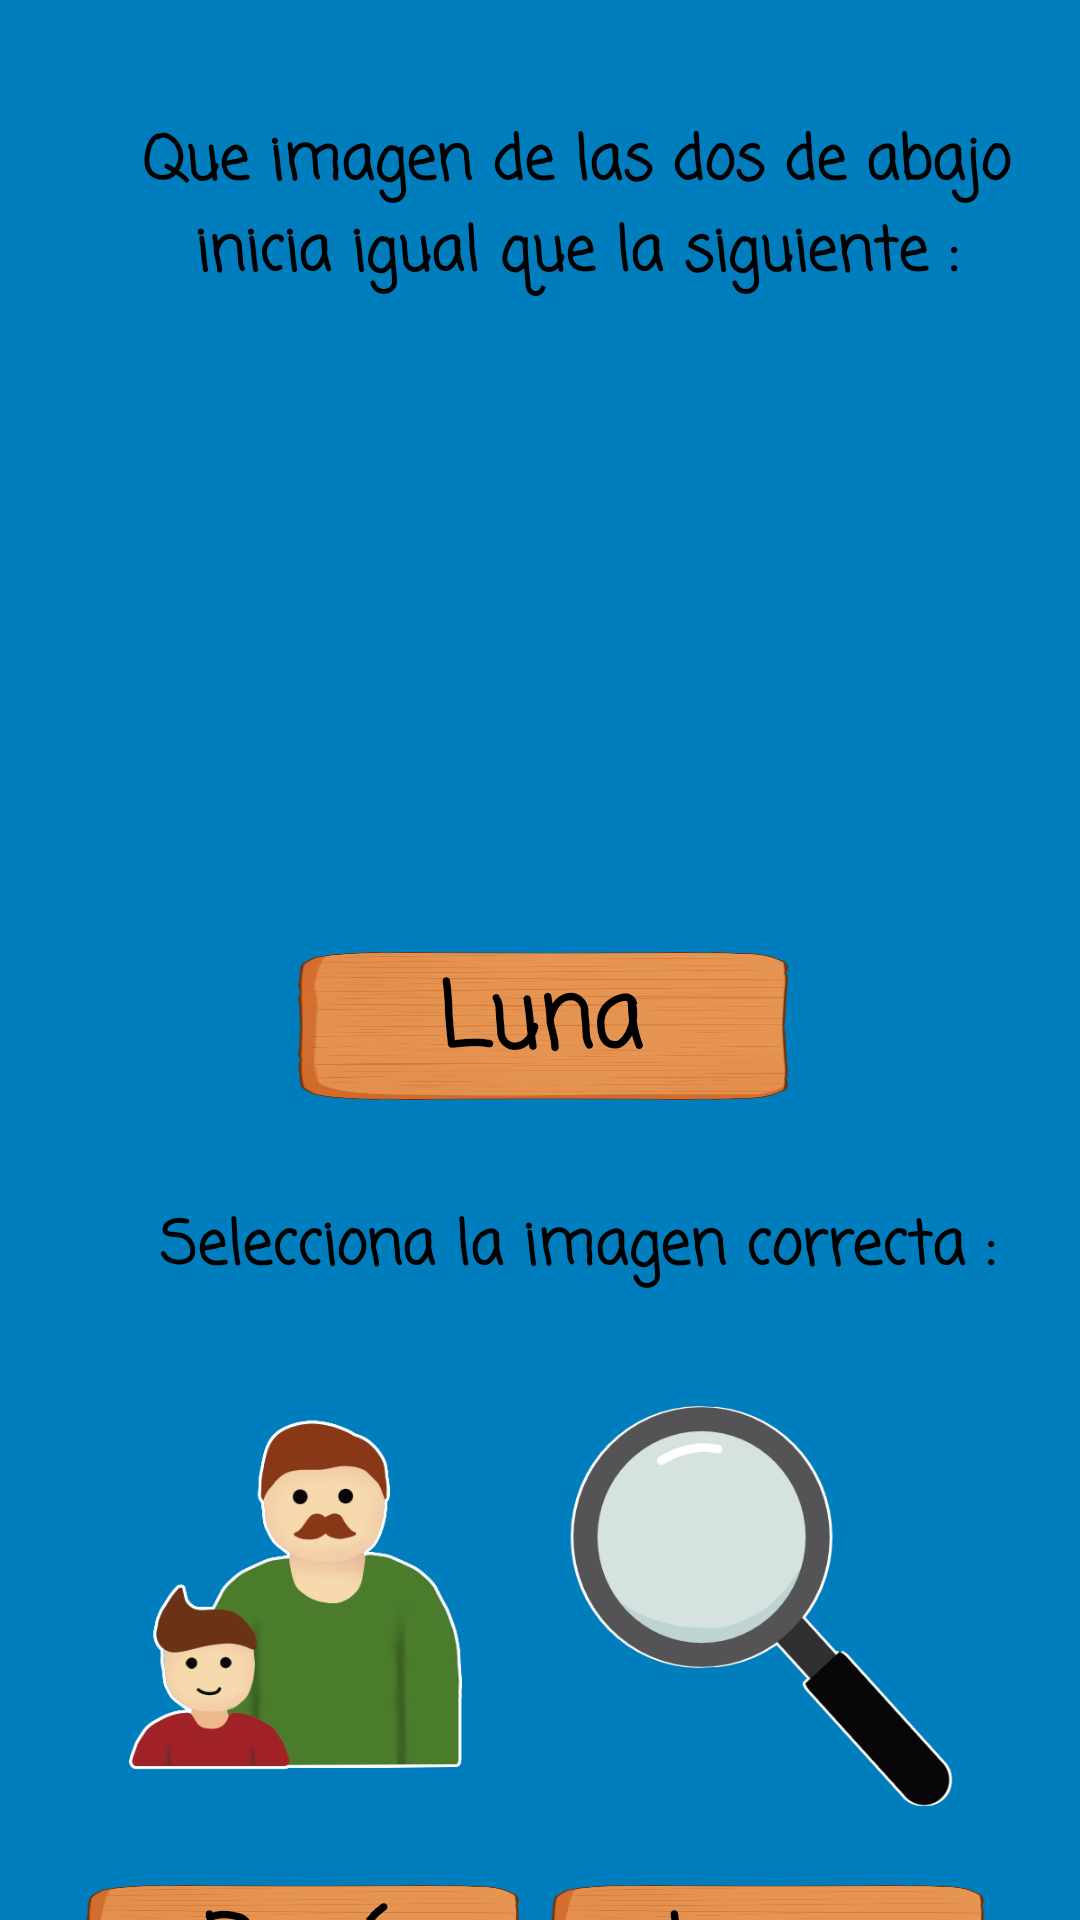

Where icons sit on this 1080px x 1920px app screen, as [x1=x1, y1=y1, x2=x2, y2=y2]:
papa: [x1=129, y1=1420, x2=462, y2=1770]
